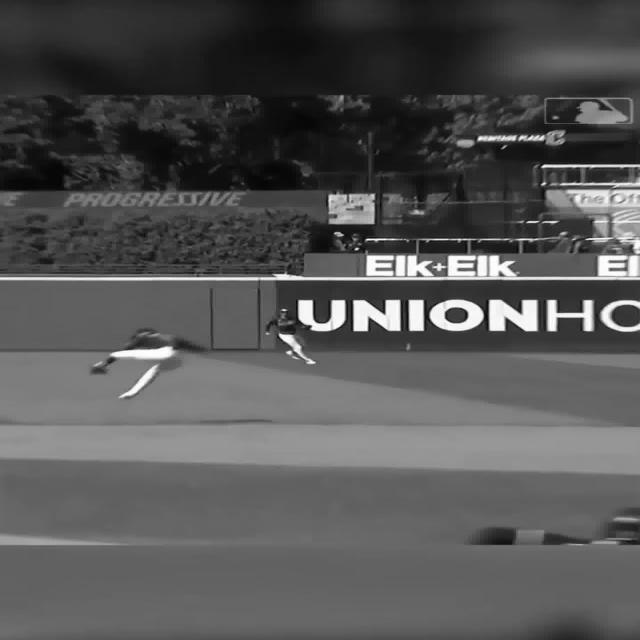baseball_glove: (88, 362, 106, 374)
shoe: (118, 364, 160, 398), (304, 360, 316, 364)
